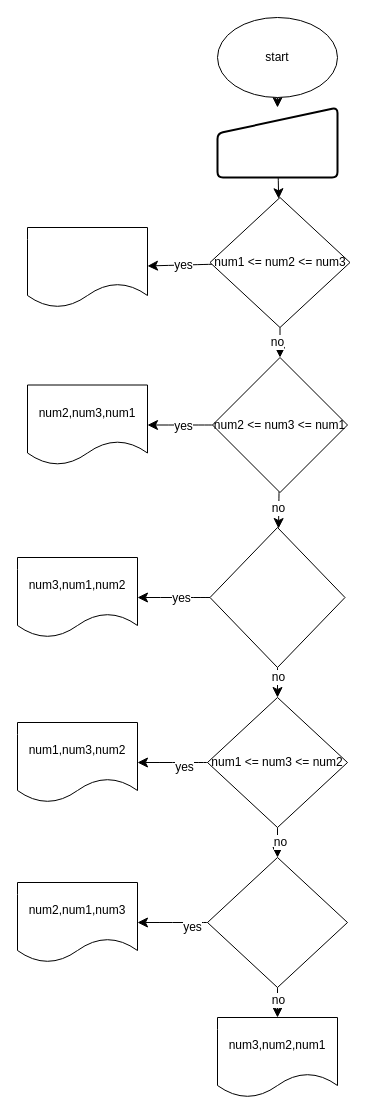
Some shapes in this 368 by 1115 pixel diagram are drawn without their labels. Each missing label, with the centre of its shape:
num 1 num2 num3: the point at 277,142
num1,num2,num3: the point at 87,267
num2 <= num1 <= num3: the point at 277,922
num3 <= num1 <= num2: the point at 277,597
